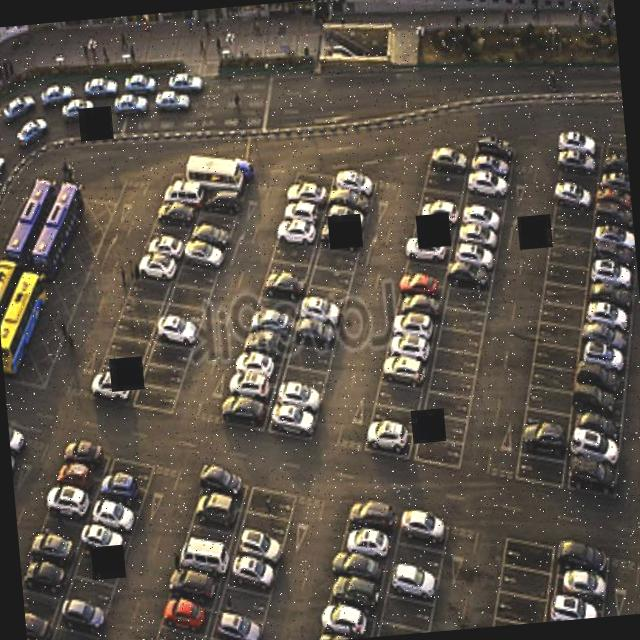car: (154, 583, 217, 640), (310, 590, 379, 640), (320, 564, 386, 616), (162, 558, 224, 606), (359, 416, 418, 466), (171, 530, 230, 580), (224, 547, 281, 597), (342, 492, 401, 540), (327, 542, 388, 588), (552, 562, 612, 608), (232, 520, 289, 568), (338, 519, 397, 565), (564, 454, 620, 502), (384, 560, 442, 606), (187, 485, 243, 532), (376, 344, 432, 391), (394, 506, 451, 552), (293, 290, 348, 337), (56, 592, 112, 638), (24, 526, 80, 571), (236, 324, 292, 369), (264, 398, 318, 444), (78, 518, 134, 562), (40, 477, 94, 522), (86, 368, 140, 413), (194, 456, 250, 499), (88, 493, 141, 538), (94, 466, 149, 509), (290, 311, 342, 356), (245, 302, 299, 345), (218, 392, 272, 434), (388, 302, 442, 344), (555, 534, 610, 575), (20, 551, 70, 596), (58, 432, 111, 474), (392, 284, 447, 324), (383, 324, 435, 366), (230, 344, 282, 386), (209, 604, 269, 640), (52, 455, 104, 496), (518, 420, 571, 460), (225, 366, 275, 408), (320, 196, 371, 237), (317, 212, 368, 253), (272, 378, 324, 418), (400, 230, 452, 270), (396, 262, 448, 302), (270, 212, 320, 253), (132, 248, 182, 289), (568, 428, 621, 466), (280, 168, 330, 208), (152, 315, 204, 353), (578, 338, 630, 376), (580, 298, 632, 336), (574, 360, 626, 398), (257, 266, 306, 306), (568, 387, 622, 423), (329, 160, 377, 200), (324, 181, 374, 219), (180, 237, 228, 276), (444, 257, 494, 294), (141, 232, 188, 271), (544, 589, 601, 621), (586, 256, 636, 292), (186, 218, 233, 256), (278, 192, 324, 230), (425, 139, 472, 176), (584, 278, 634, 312), (580, 318, 630, 352), (150, 196, 198, 231), (456, 218, 502, 254), (590, 219, 636, 255), (570, 411, 620, 444), (197, 184, 244, 219), (587, 240, 635, 274), (451, 239, 497, 274), (459, 198, 506, 232), (159, 178, 203, 214), (464, 164, 510, 198), (467, 145, 513, 179), (549, 177, 596, 210), (556, 125, 601, 159), (206, 164, 250, 198), (556, 142, 600, 176), (416, 196, 462, 228), (594, 180, 632, 217), (168, 164, 208, 199), (474, 129, 517, 161), (592, 200, 633, 233), (304, 622, 369, 640), (24, 601, 53, 640), (597, 166, 630, 198), (596, 144, 628, 177), (26, 626, 44, 640)
free: (378, 586, 441, 635), (498, 526, 559, 576), (216, 577, 274, 629), (369, 371, 429, 418), (512, 447, 573, 493), (492, 558, 554, 603), (238, 504, 295, 552), (63, 566, 120, 614), (177, 509, 235, 556), (392, 536, 451, 582), (246, 474, 300, 524), (70, 541, 124, 589), (276, 358, 333, 403), (312, 231, 365, 279), (297, 274, 353, 318), (488, 586, 548, 626), (162, 274, 216, 318), (438, 296, 492, 340), (308, 256, 360, 301), (362, 398, 420, 438), (414, 408, 469, 450), (128, 379, 184, 420), (434, 317, 486, 361), (172, 256, 225, 299), (35, 505, 88, 548), (440, 280, 496, 320), (106, 444, 158, 487), (286, 338, 340, 379), (156, 294, 210, 335), (121, 270, 172, 313), (431, 338, 482, 381), (136, 356, 190, 396), (429, 363, 480, 404), (146, 338, 198, 378), (412, 436, 464, 476), (420, 386, 472, 426), (101, 329, 150, 371), (520, 398, 574, 436), (116, 290, 166, 331), (266, 232, 317, 272), (522, 359, 577, 396), (521, 382, 576, 419), (110, 311, 160, 351), (526, 338, 580, 374), (145, 214, 195, 252), (282, 158, 332, 196), (531, 316, 583, 352), (262, 252, 312, 289), (534, 296, 586, 331), (537, 277, 589, 312), (22, 580, 63, 624), (252, 288, 300, 324), (547, 201, 596, 236), (147, 612, 208, 640), (542, 257, 591, 291), (545, 218, 594, 252), (100, 348, 146, 384), (418, 163, 468, 196), (462, 184, 510, 218), (544, 238, 592, 272), (416, 180, 466, 212), (550, 162, 600, 194), (409, 216, 459, 248), (192, 205, 238, 238), (370, 612, 432, 636), (397, 254, 448, 283), (46, 618, 104, 640), (483, 608, 540, 626), (202, 625, 260, 640)
